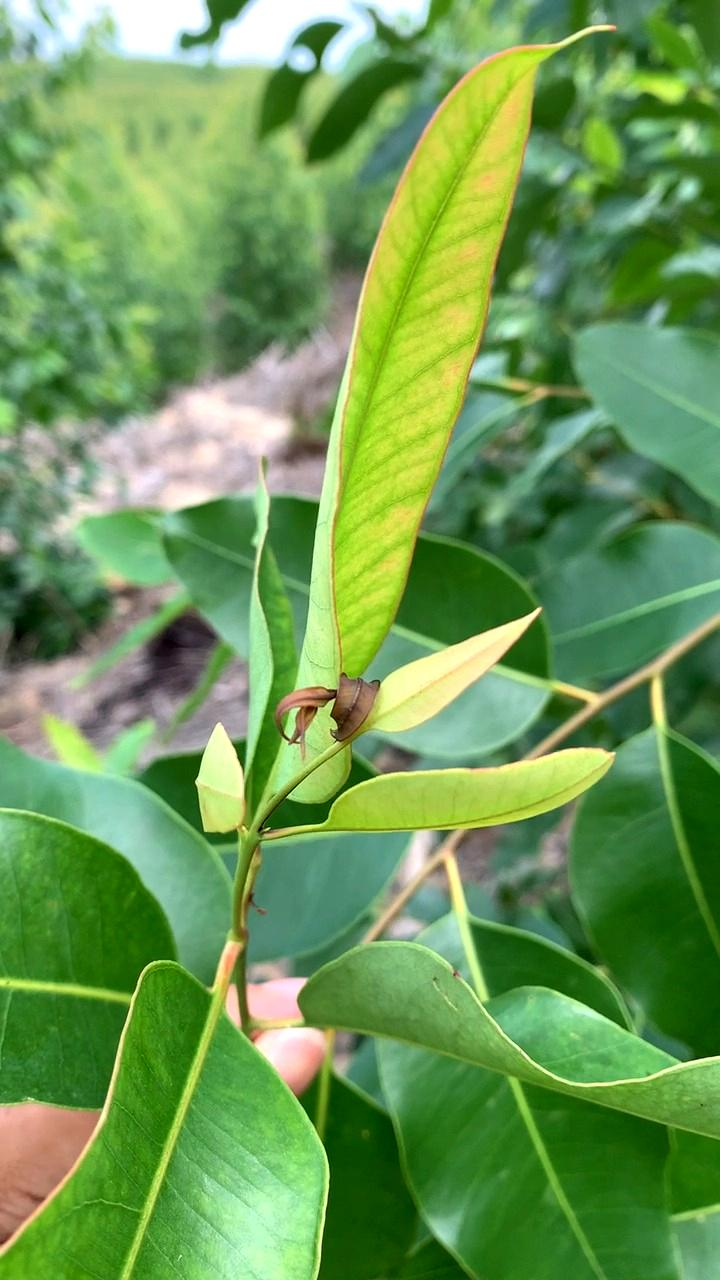Helopeltis-Withered Sprout: (258, 656, 409, 775)
